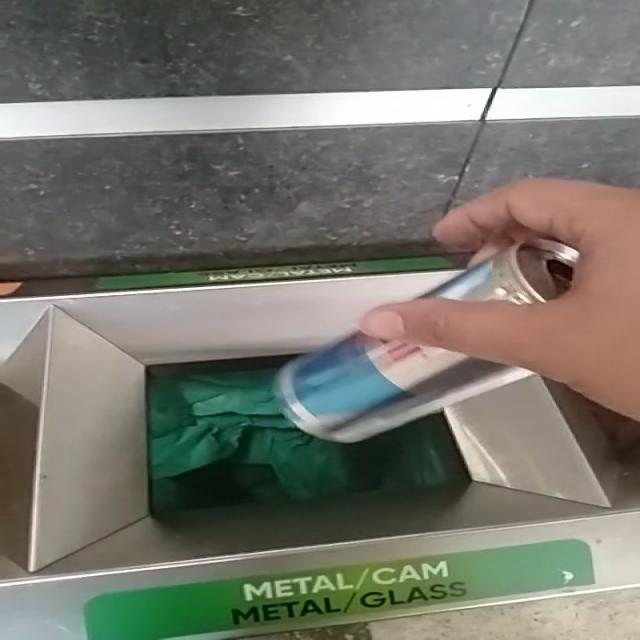bin: (1, 271, 639, 640)
metal: (275, 334, 533, 443), (423, 241, 579, 305)
